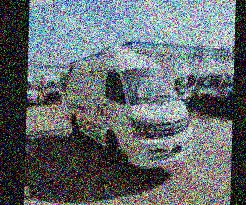van: (60, 43, 200, 185)
